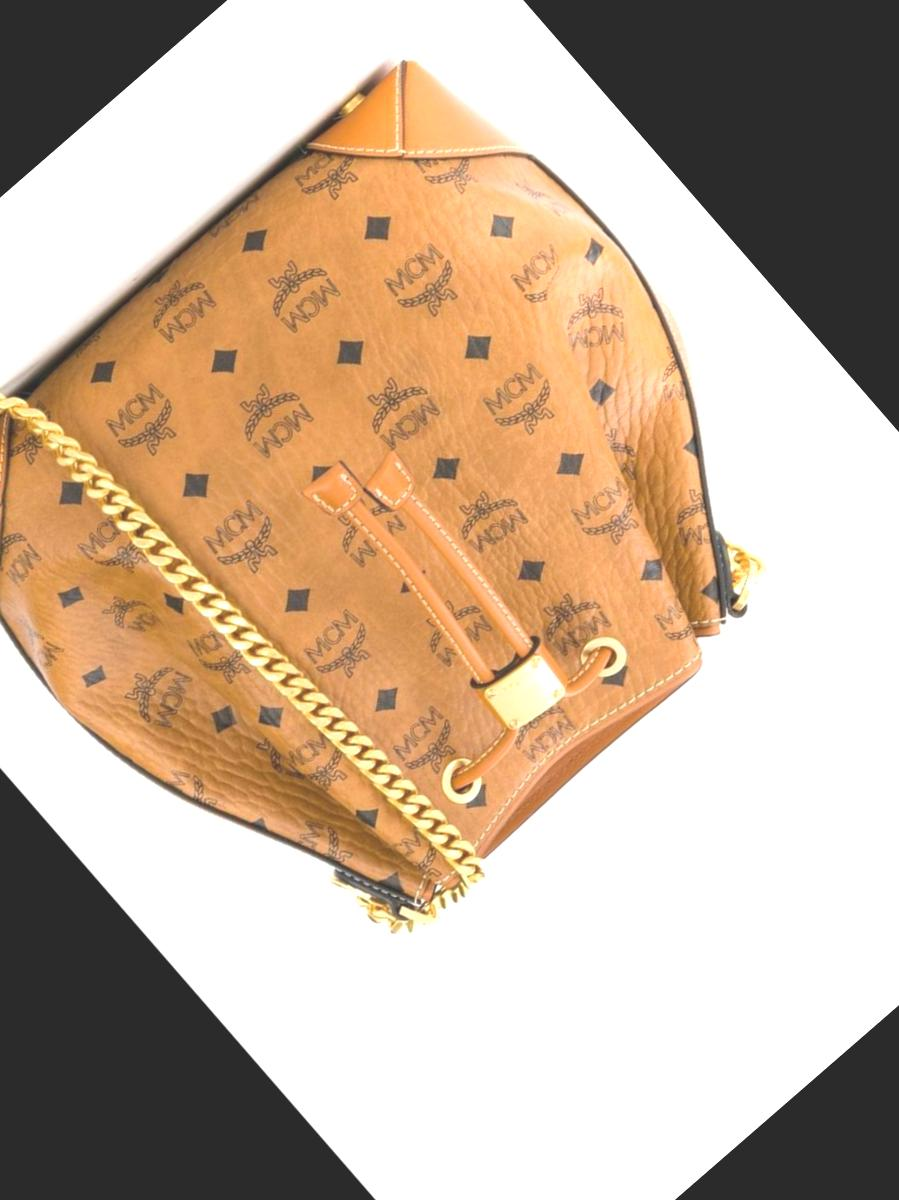MCM: (0, 22, 873, 1008)
